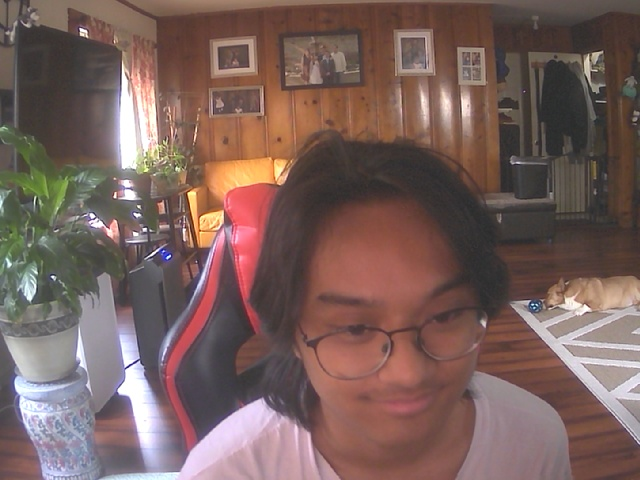happy: (285, 153, 494, 450)
